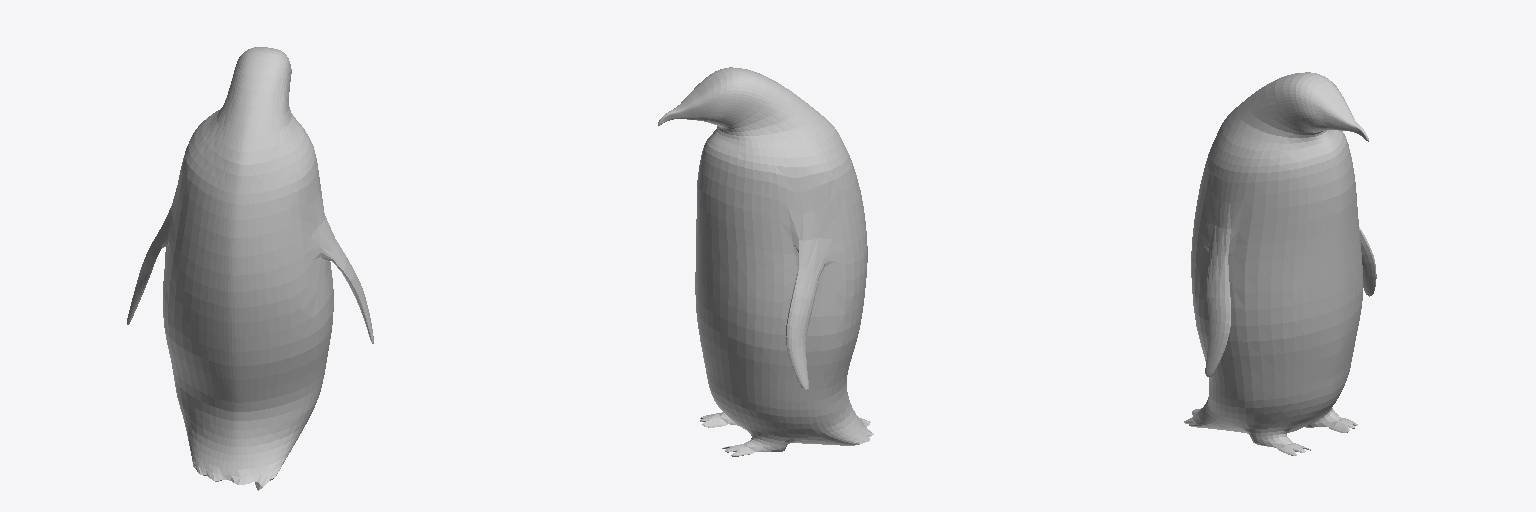
File: penguin.obj
3 views of the same model, side by side, from view 1: azimuth 30°, elevation 25°; view 2: azimuth 150°, elevation 25°; view 3: azimuth 270°, elevation 25° (orthographic).
Visible parts, largest first — view 1: Penguin_Cylinder; view 2: Penguin_Cylinder; view 3: Penguin_Cylinder.
Boxes of the visible parts, x1=… form: Penguin_Cylinder: x1=127, y1=47, x2=373, y2=490; Penguin_Cylinder: x1=658, y1=67, x2=873, y2=456; Penguin_Cylinder: x1=1184, y1=72, x2=1376, y2=455.
Bounding box in the file's own units: 0.422 × 0.9092 × 0.4189.